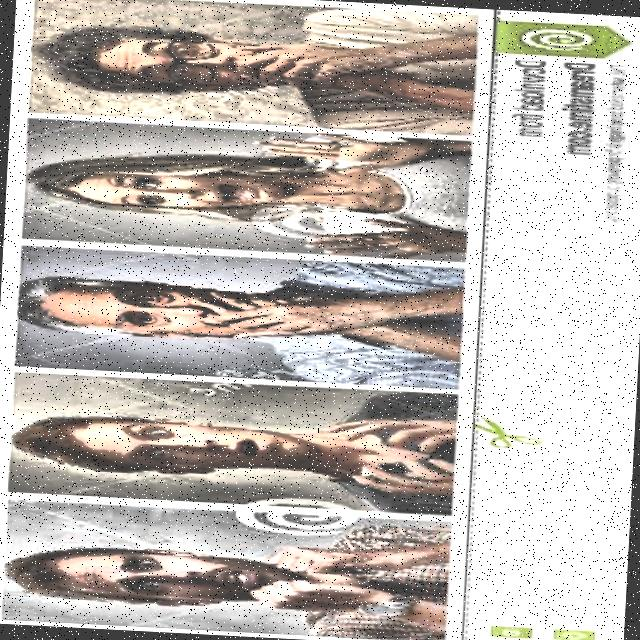fear: (30, 133, 329, 232), (0, 404, 347, 482), (44, 16, 329, 107), (24, 267, 314, 351), (0, 535, 289, 616)
